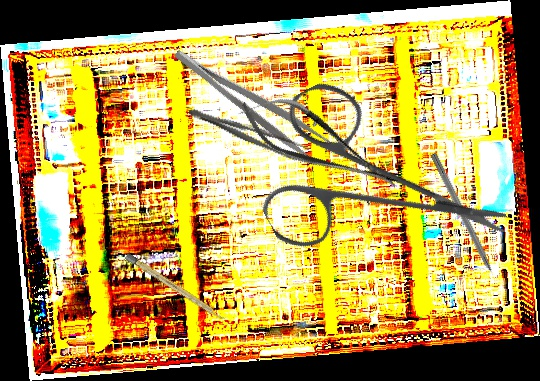Dressing Forceps: (170, 33, 334, 168), (185, 102, 311, 165)
Hook Surgical: (428, 152, 502, 289)
Iris Scissors: (222, 34, 513, 328)
Micro Scissor: (230, 78, 409, 212)
Scalpel Handle: (124, 252, 227, 323)
